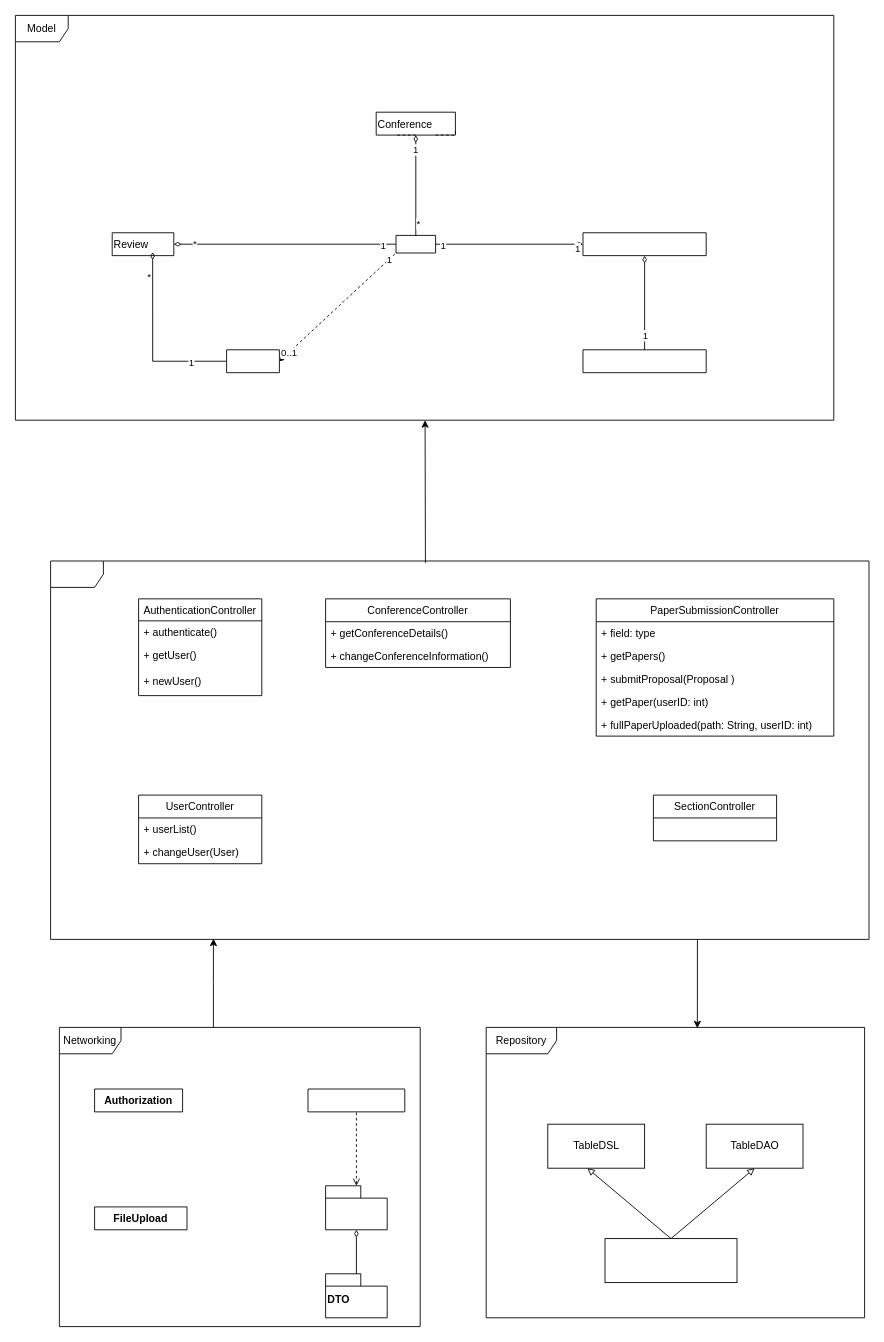
Some shapes in this 884 by 1342 pixel diagram are drawn without their labels. Each missing label, with the centre of its shape:
DatabaseConnection: the point at 670,1260
Paper: the point at 252,361
Route: the point at 356,1207
Section: the point at 644,361
ServerModule: the point at 356,1100
User: the point at 415,244
UserSectionChoice: the point at 644,244
